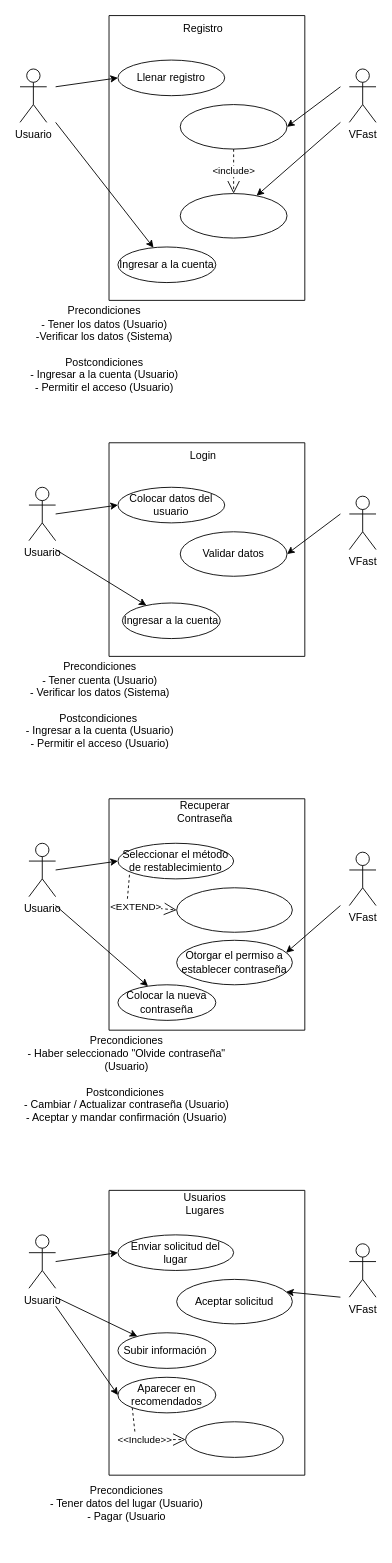
Some shapes in this 392 by 1563 pixel diagram are drawn without their labels. The shapes that lost their labels are listed below. From the top down, each one's centre as x and y in pixels, then its label:
At [233,126]: "Validar el registro".
At [233,215]: "Dar de alta la cuenta".
At [234,909]: "Correo electrónico Google SMS".
At [234,1439]: "Pago".
